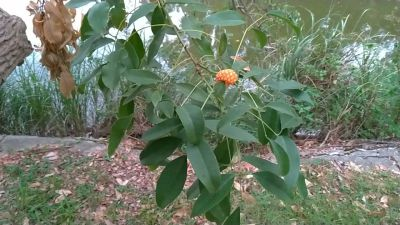eggs: (215, 65, 242, 86)
